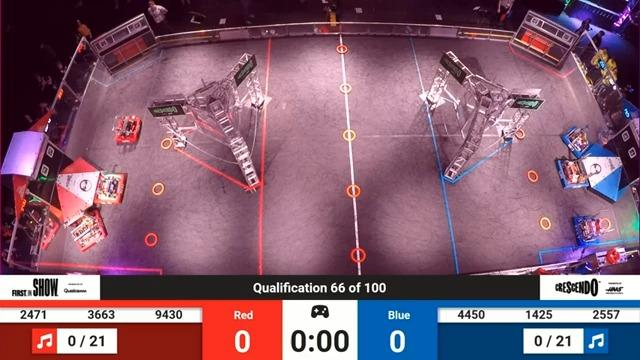robot: (57, 211, 111, 251), (555, 153, 594, 193), (569, 209, 605, 246), (97, 170, 128, 208), (111, 112, 144, 147), (561, 121, 593, 157)
